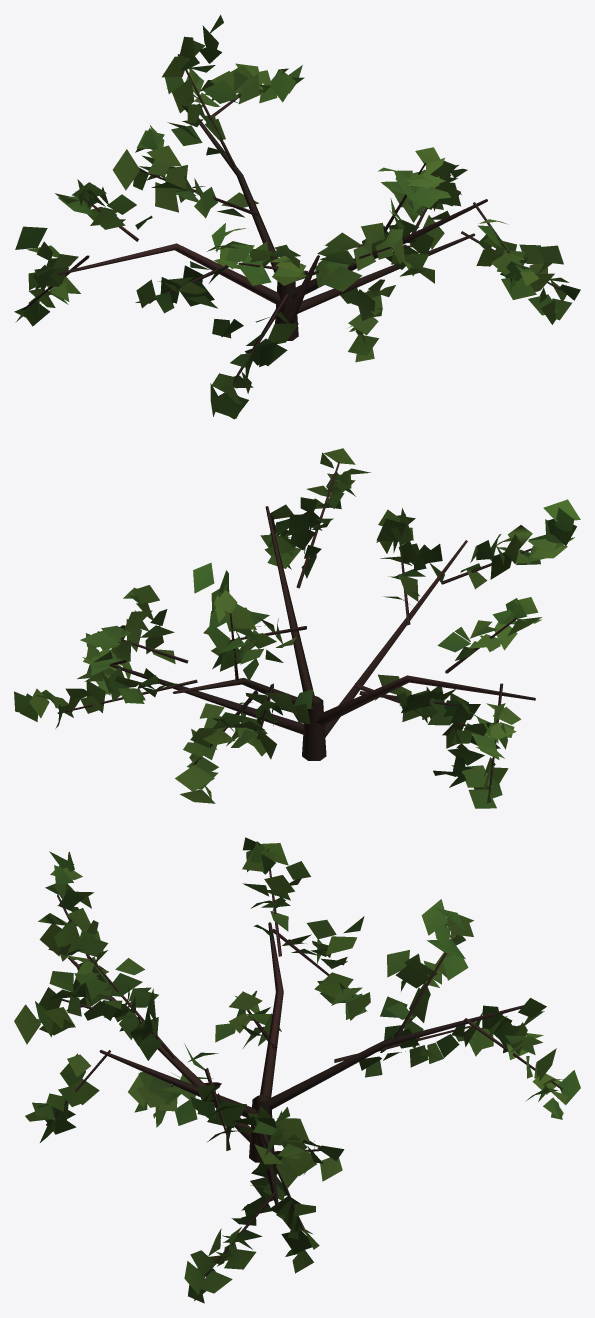
Rendered from bush-bramble-b.lod1.glb.
3 renders of one model, top to bottom at view 1: azimuth 30°, elevation 25°; view 2: azimuth 150°, elevation 25°; view 3: azimuth 270°, elevation 25°, orthographic. The views are drawn at different scales.
Parts seen in each view (by area): view 1: bush-bramble-b.lod1; view 2: bush-bramble-b.lod1; view 3: bush-bramble-b.lod1.
Part boxes in pixels (bbox=[...]): bush-bramble-b.lod1: bbox=[14, 14, 580, 419]; bush-bramble-b.lod1: bbox=[14, 448, 580, 808]; bush-bramble-b.lod1: bbox=[14, 837, 580, 1303].
Bounding box in the file's own units: 1.64 × 0.9951 × 1.58.
